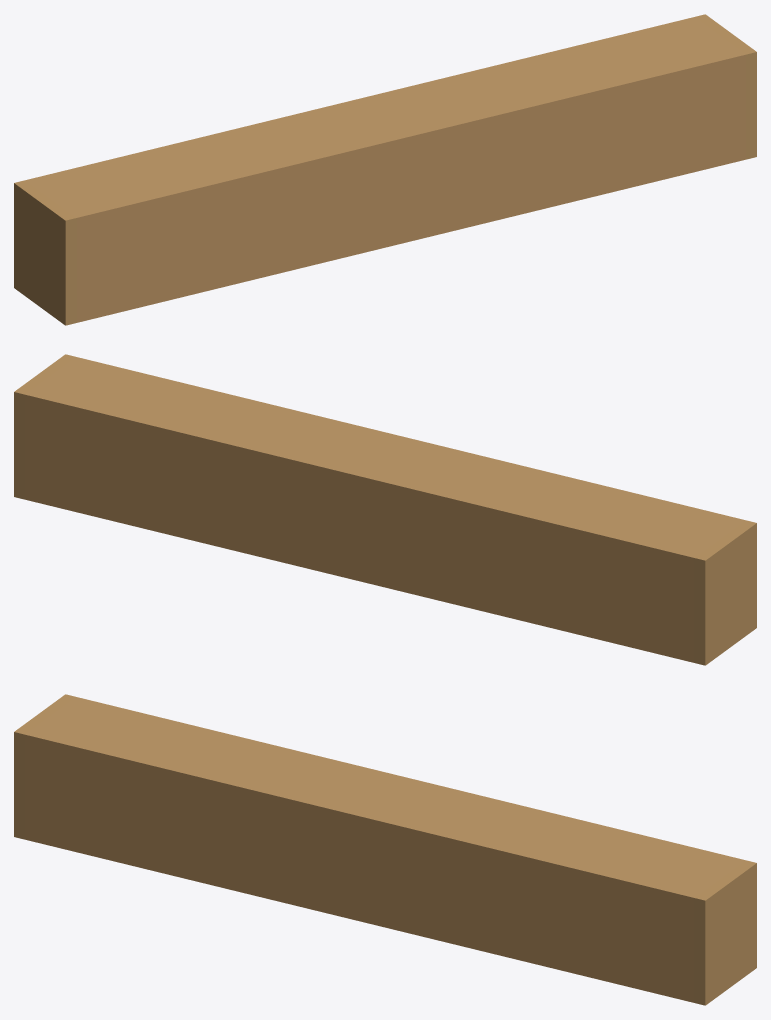
File: wooden_post_short.glb
The picture shows the model from 3 angles, top to bottom: view 1: azimuth 30°, elevation 25°; view 2: azimuth 150°, elevation 25°; view 3: azimuth 330°, elevation 25°; orthographic projection.
Visible parts, largest first — view 1: wooden_post_short:compound; view 2: wooden_post_short:compound; view 3: wooden_post_short:compound.
Boxes of the visible parts, box(x1,y1,x2,y2) form: wooden_post_short:compound: box(14, 14, 756, 325); wooden_post_short:compound: box(14, 354, 756, 665); wooden_post_short:compound: box(14, 694, 756, 1005).
Size of the model in its own units: 0.62 by 0.09 by 0.08.
